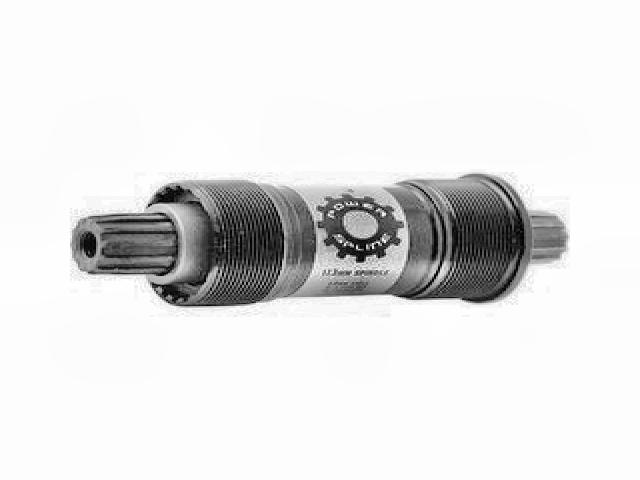bottom_bracket: (68, 174, 566, 310)
